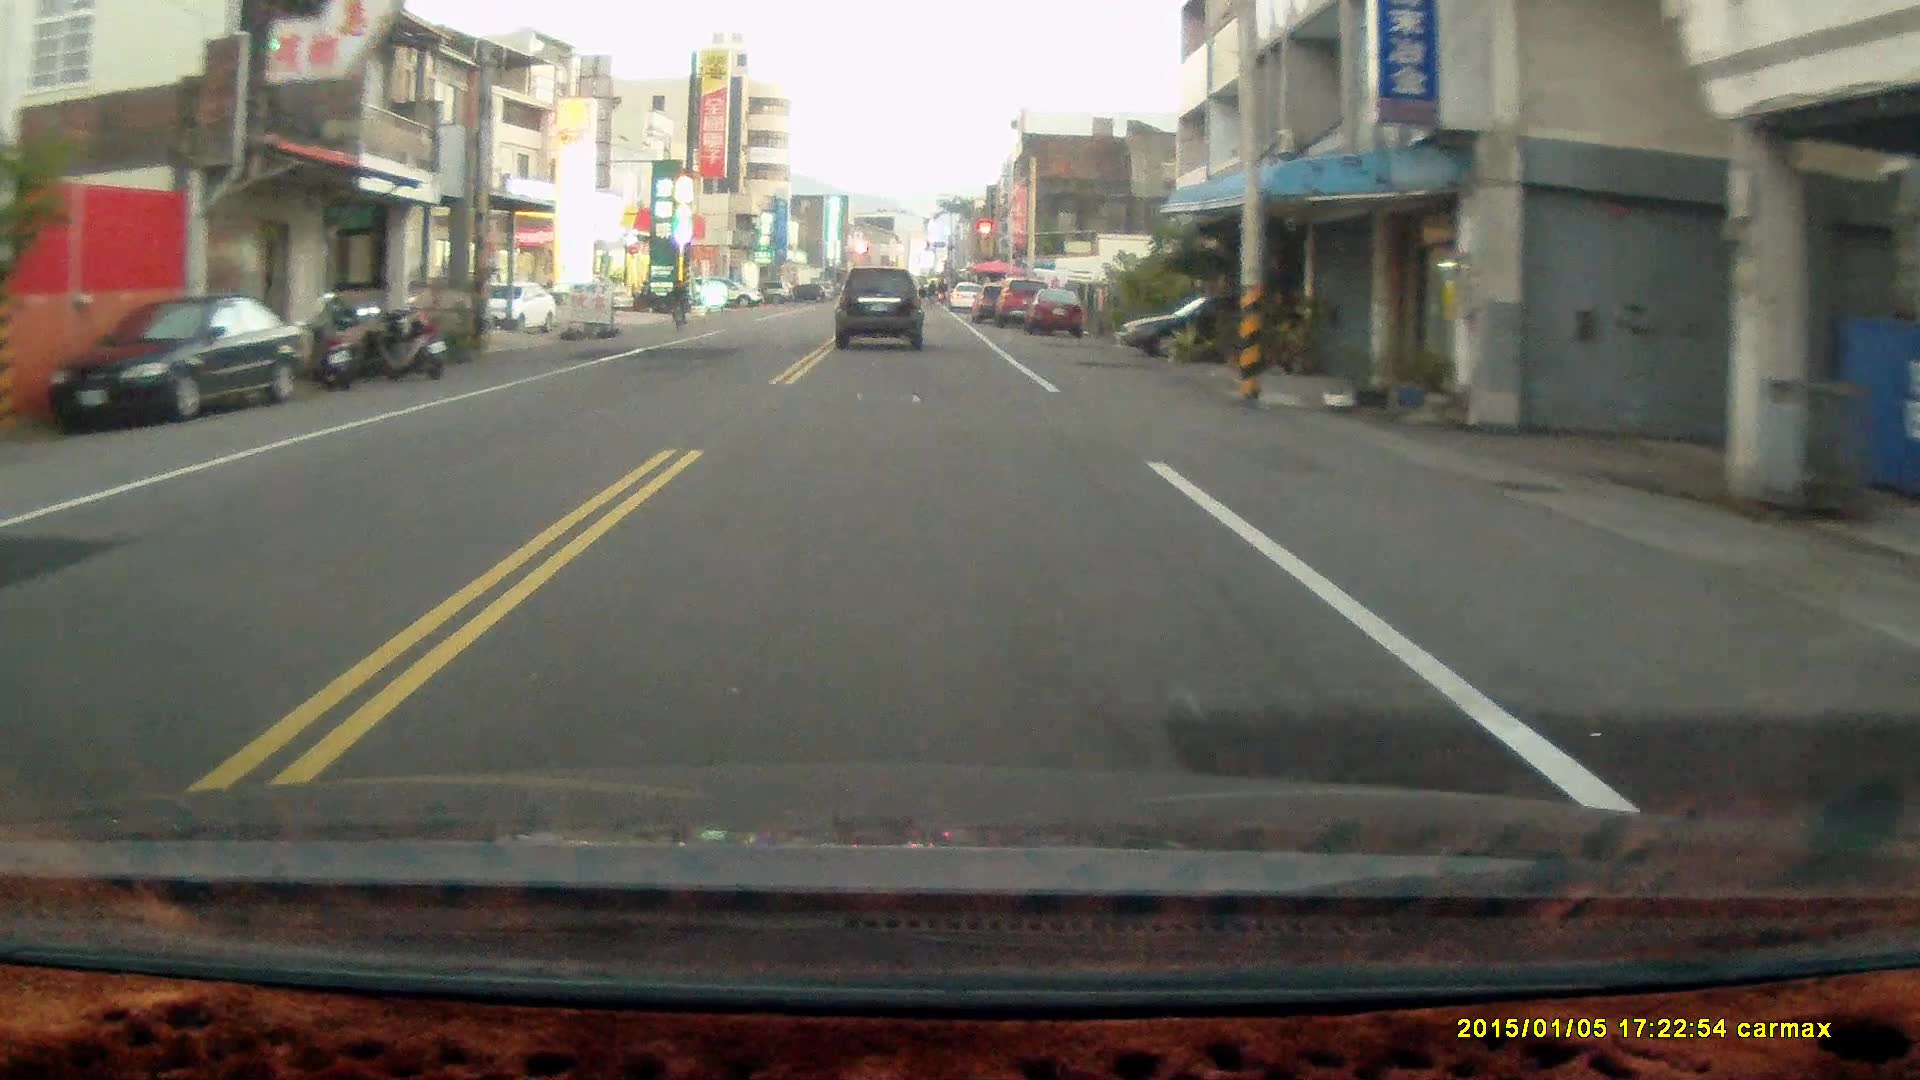rider: (664, 277, 689, 336)
vehicle: (45, 295, 315, 425), (835, 265, 926, 353), (463, 281, 558, 333)
